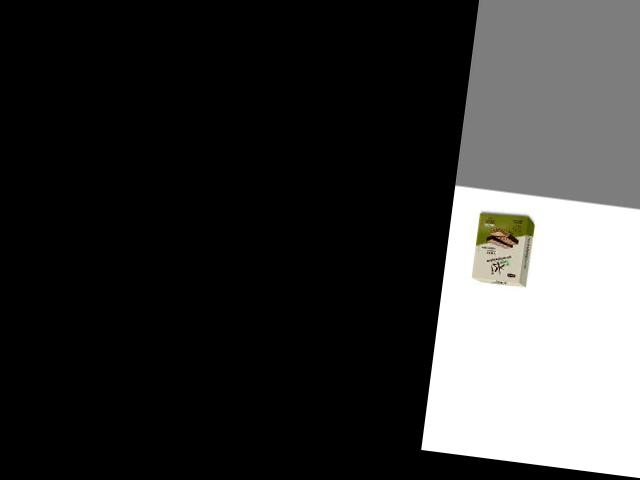chocolate: (464, 206, 539, 290)
